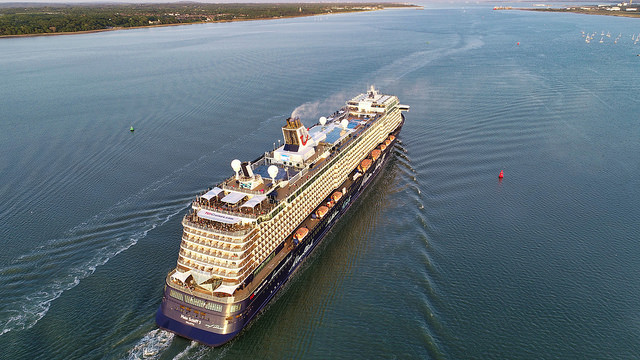cruise_ship: (159, 87, 420, 344)
